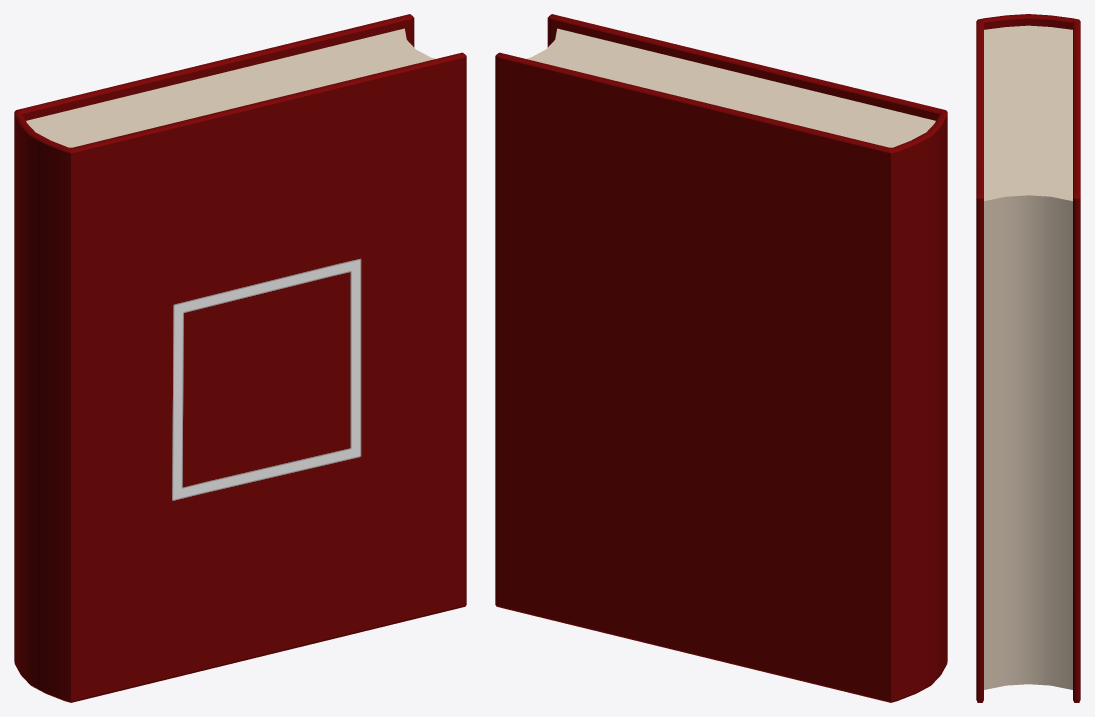
The model's file is book2.glb.
3 views of the same model, side by side, from view 1: azimuth 30°, elevation 25°; view 2: azimuth 150°, elevation 25°; view 3: azimuth 270°, elevation 25° (orthographic). The views are drawn at different scales.
Parts seen in each view (by area): view 1: book2; view 2: book2; view 3: book2.
Part boxes in pixels (<box>): book2: <box>14,14,466,702</box>; book2: <box>495,14,947,702</box>; book2: <box>976,14,1080,702</box>.
Size of the model in its own units: 0.3378 by 0.4353 by 0.0813.
Materials: 1 (1 with a texture image).
